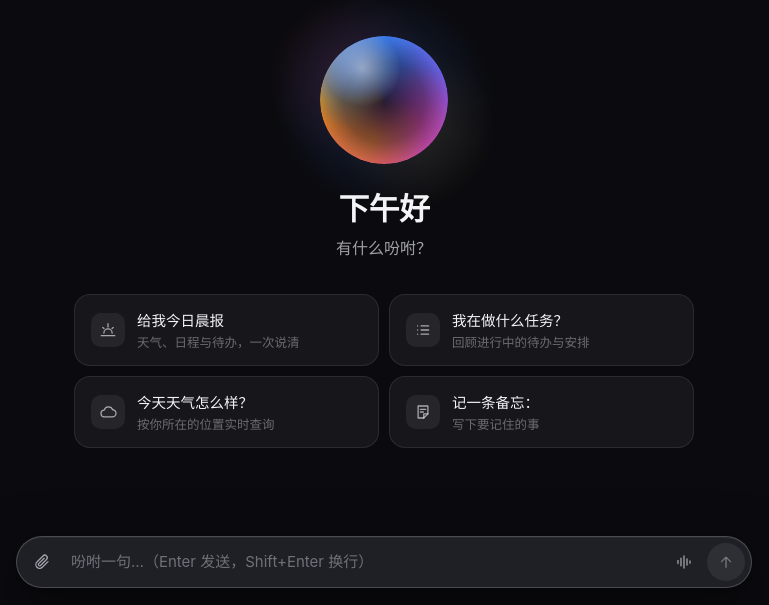
Scenario: 对话体验 › 停止生成后，回答末尾标明「已停止」
Type "讲个长故事" into the text box with placeholder "吩咐一句…（Enter 发送，Shift+Enter 换行）" at coordinates (363, 562), box [65,543,661,581]
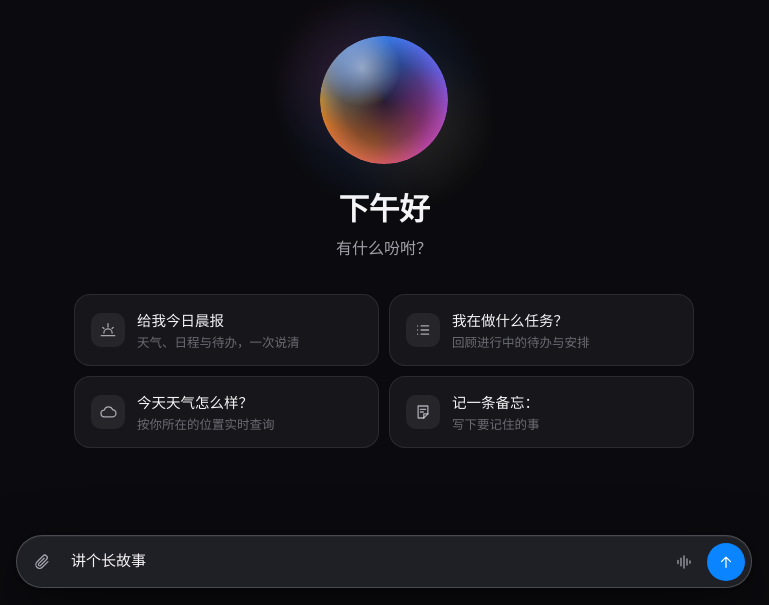
Press Enter in the text box with placeholder "吩咐一句…（Enter 发送，Shift+Enter 换行）", box [65,542,661,581]
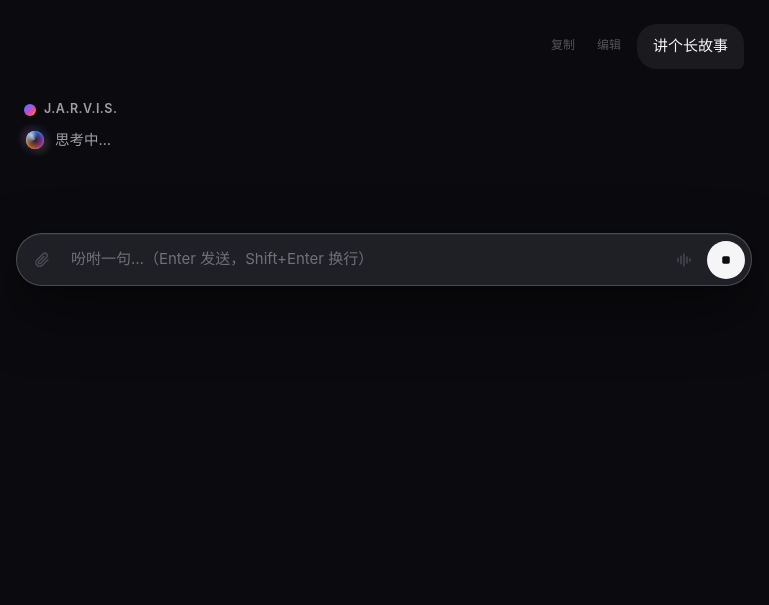
Click the button named "停止生成" at coordinates (726, 260), box [707,241,745,279]
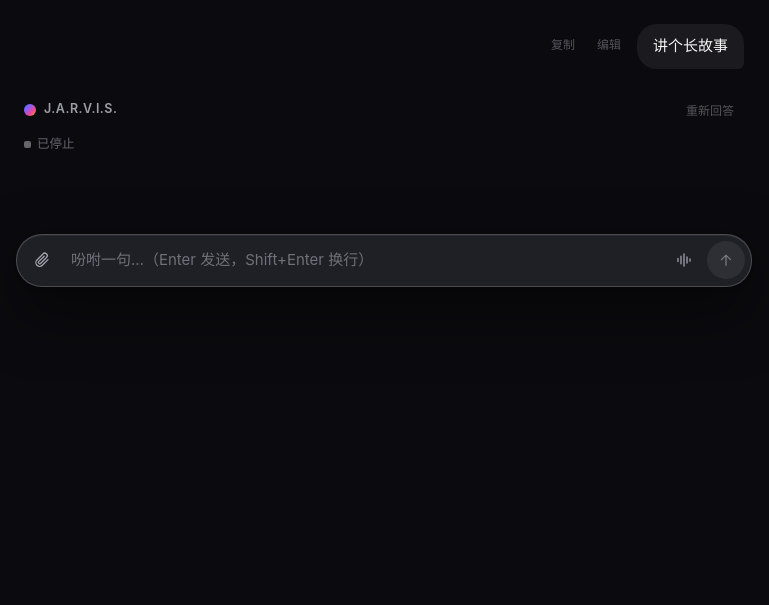
Check: the button named "发送" is shown, box [707,241,745,279]
Check: the text with class "msg-stopped" reads "已停止", box [37,136,74,151]
